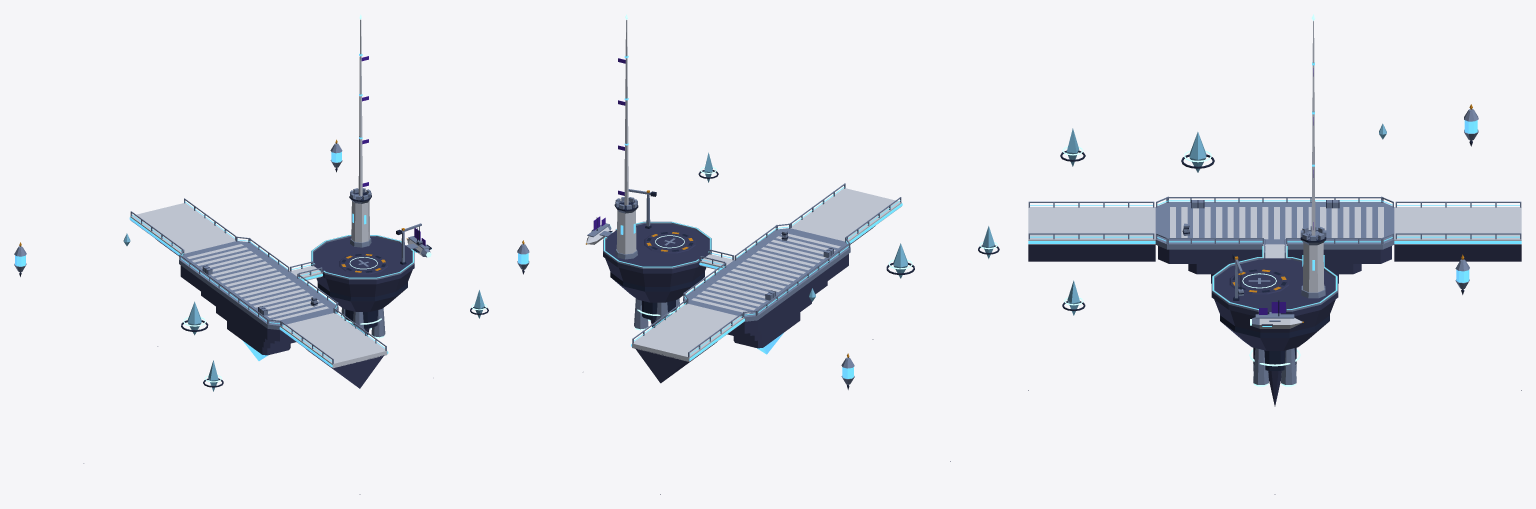
The model's file is chunk_path_skyport.fbx.
The picture shows the model from 3 angles, left to right: view 1: azimuth 30°, elevation 25°; view 2: azimuth 150°, elevation 25°; view 3: azimuth 270°, elevation 25°; orthographic projection. The views are drawn at different scales.
Visible parts, largest first — view 1: chunk_path_skyport; view 2: chunk_path_skyport; view 3: chunk_path_skyport.
Part boxes in pixels (box(x1,y1,x2,y2)): chunk_path_skyport: box(14, 14, 488, 494); chunk_path_skyport: box(517, 14, 999, 494); chunk_path_skyport: box(1028, 14, 1521, 494).
Bounding box in the file's own units: 256 × 256 × 256.
